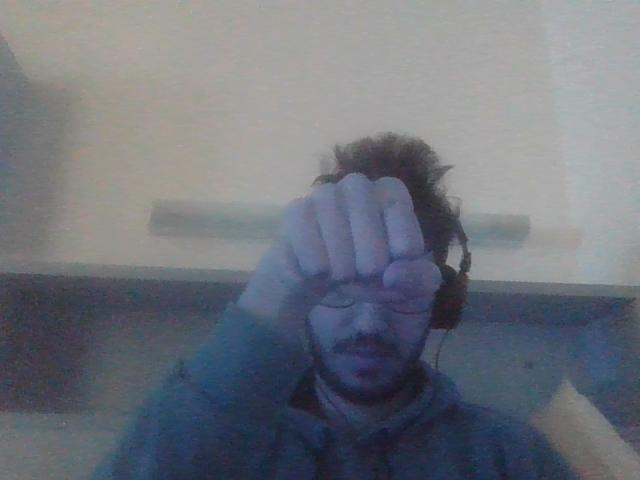yes: (279, 178, 444, 298)
